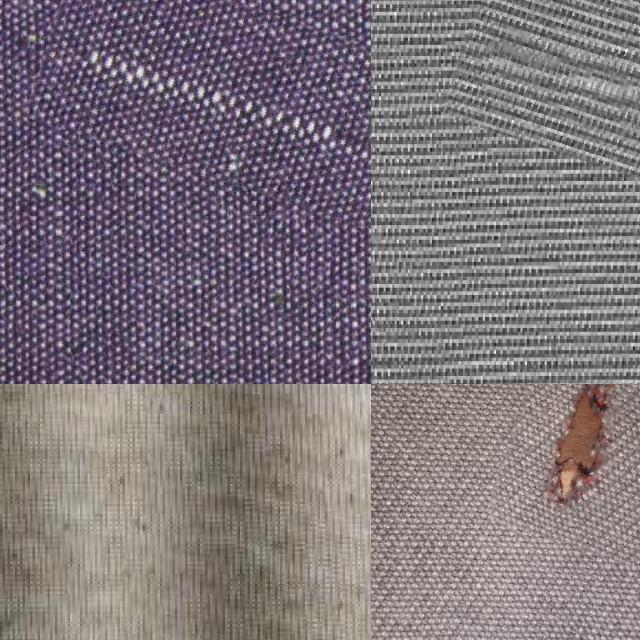Thread_other: (32, 0, 371, 210), (449, 0, 640, 224)
seam: (496, 384, 640, 557)
